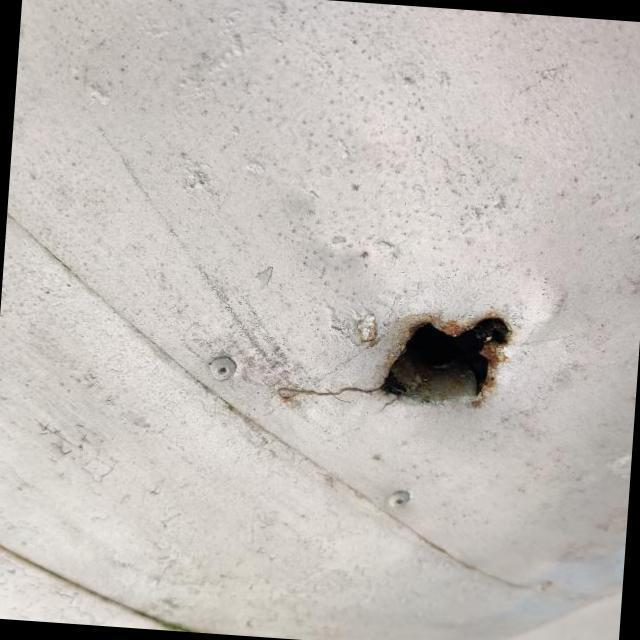Rupture: (264, 286, 533, 434)
